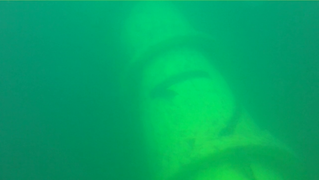1: (148, 69, 211, 101)
pipe: (117, 1, 306, 179)
